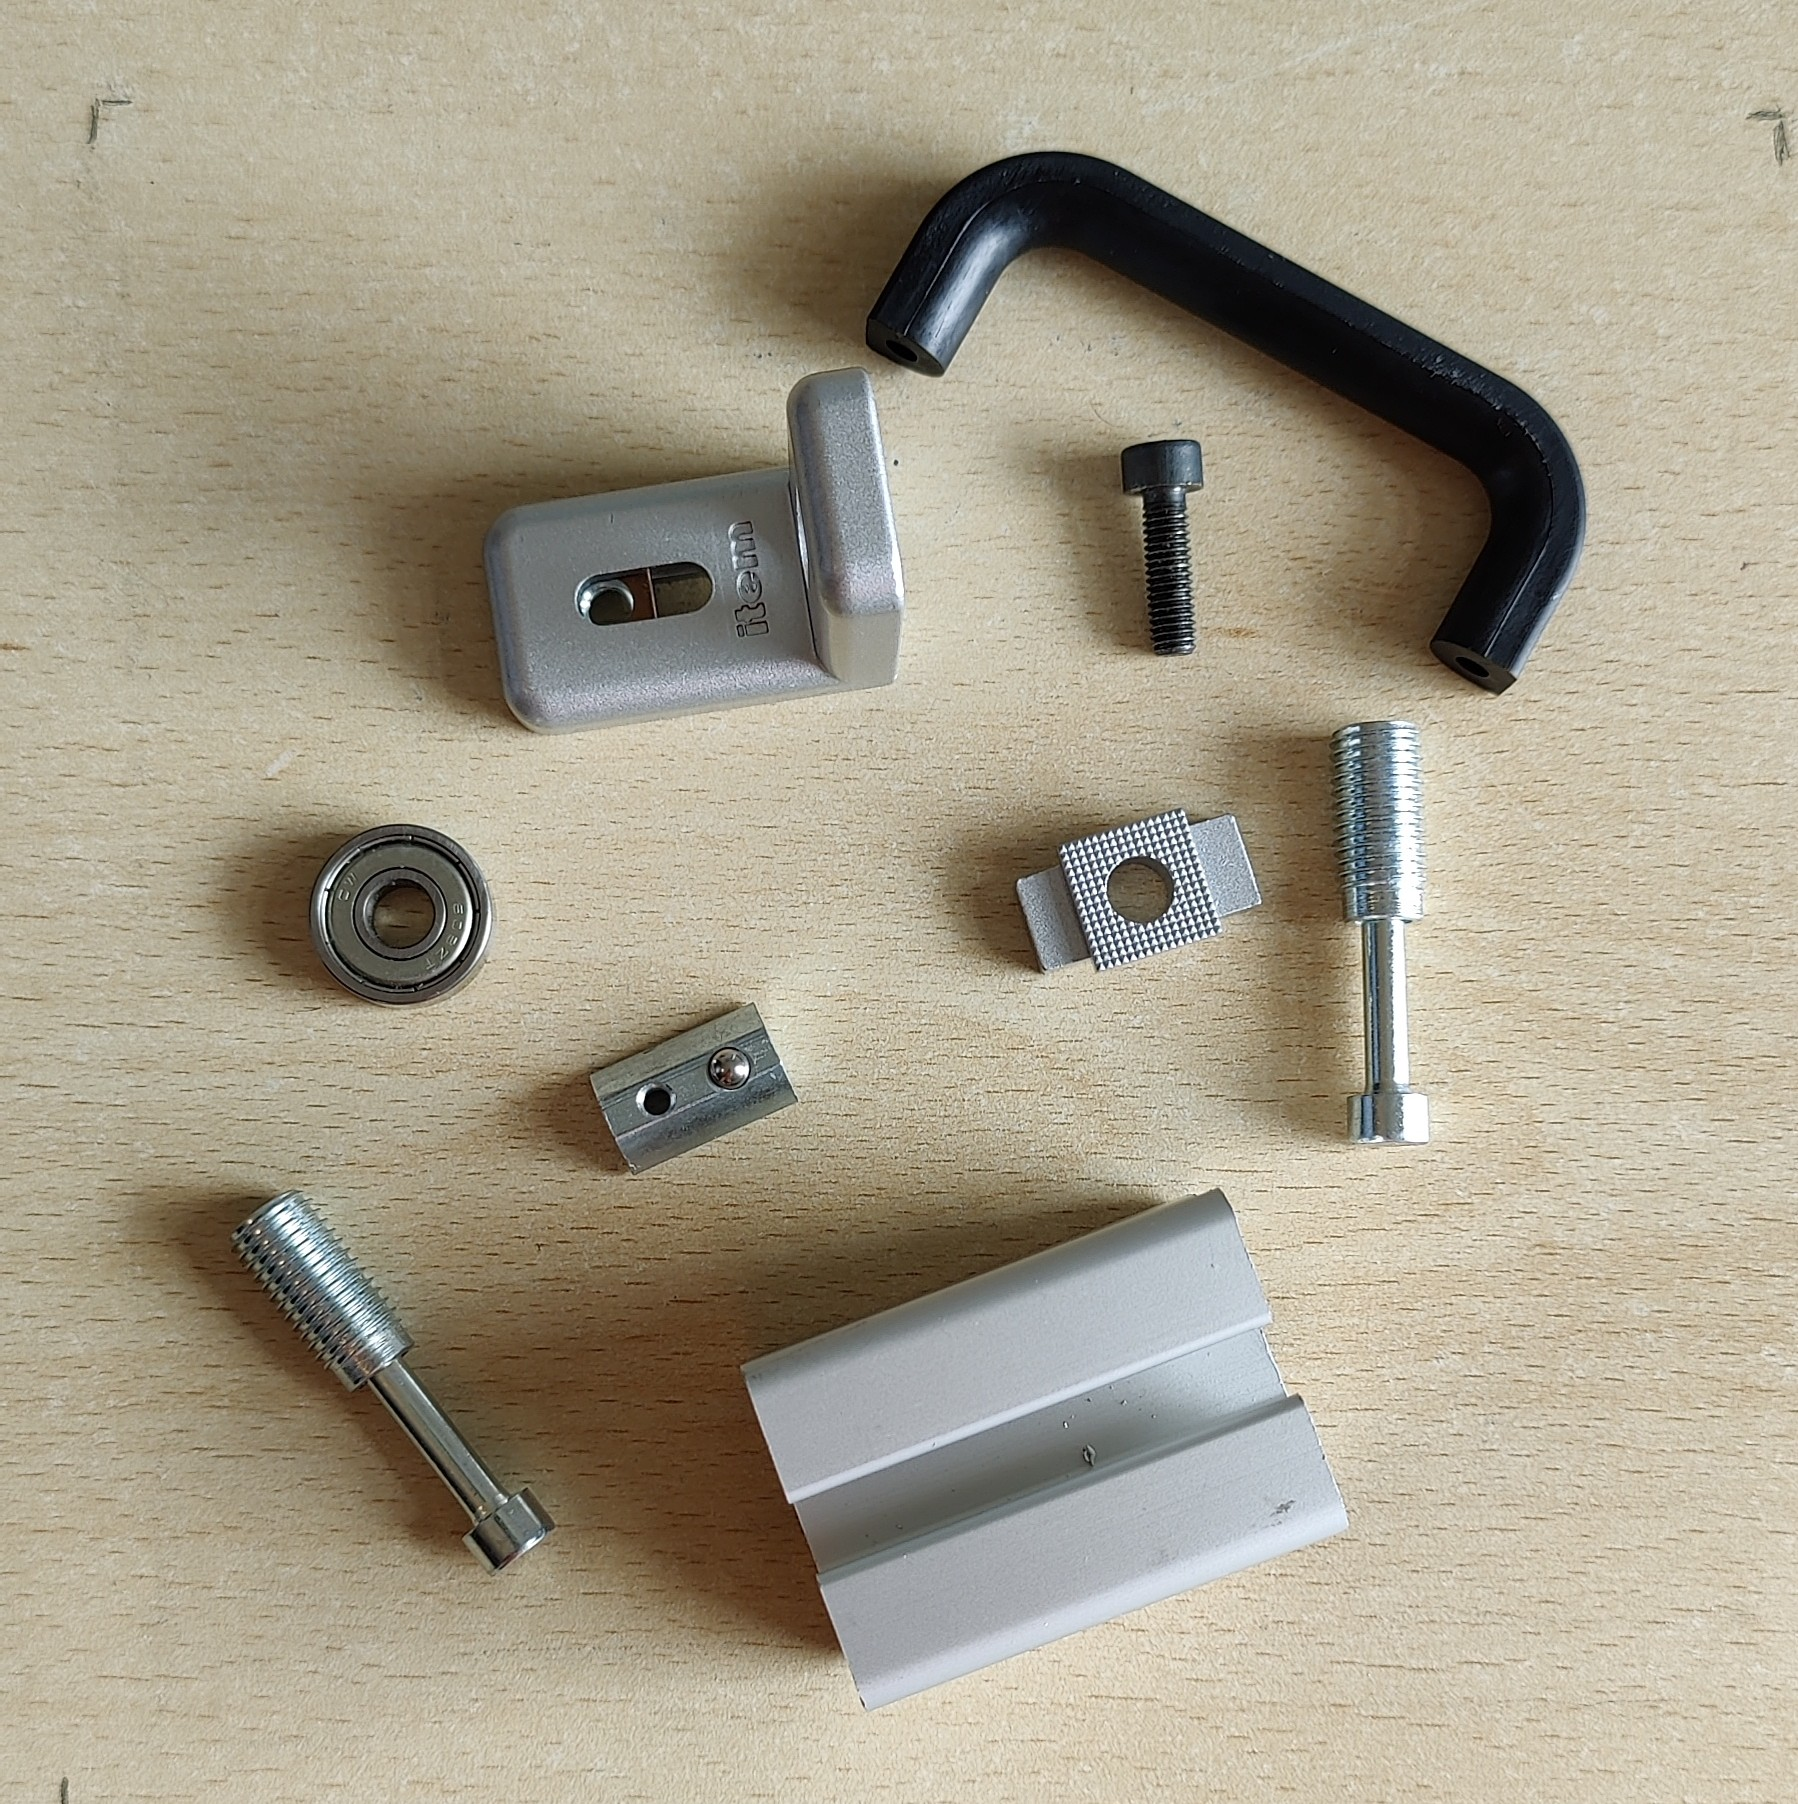Aluminium Extension: (736, 1182, 1350, 1718)
Ball Bearing: (306, 821, 496, 1012)
Multiwinkel: (481, 364, 907, 737)
Pull Handle: (863, 146, 1589, 696)
Shoulder Socket Head Cap Screw: (227, 1185, 560, 1582), (1325, 716, 1436, 1152)
Socket Head Cap Screw: (1118, 435, 1205, 658)
T Nut Square: (1014, 807, 1265, 978)
T Spring Nut: (585, 997, 800, 1177)
